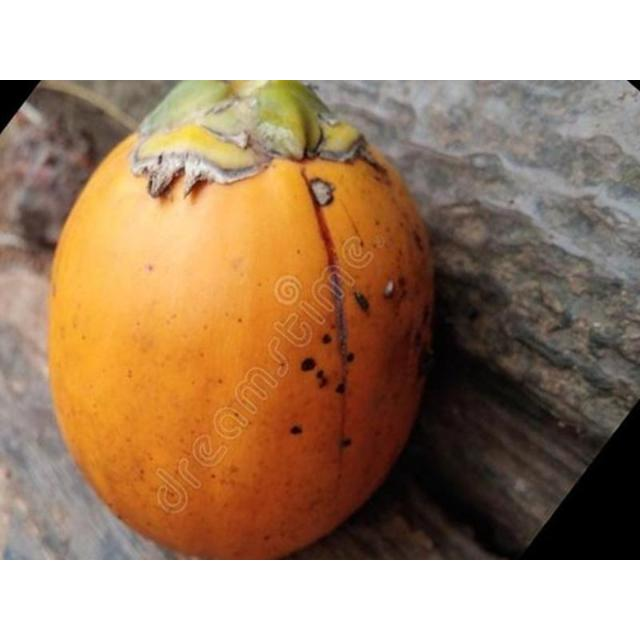good: (45, 80, 439, 559)
